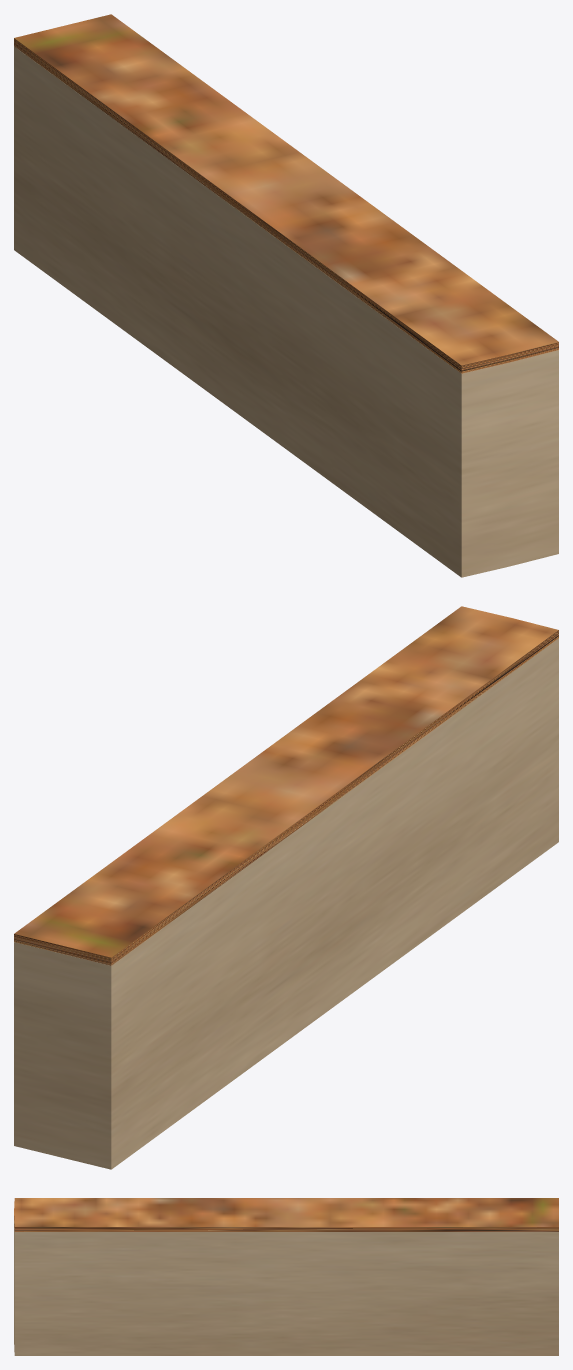
The model's file is Border_Quarter(2).fbx.
3 views of the same model, one above another, from view 1: azimuth 30°, elevation 25°; view 2: azimuth 150°, elevation 25°; view 3: azimuth 270°, elevation 25° (orthographic). The views are drawn at different scales.
Visible parts, largest first — view 1: Border_Quarter, Border_Quarter_TOP; view 2: Border_Quarter, Border_Quarter_TOP; view 3: Border_Quarter, Border_Quarter_TOP.
Part boxes in pixels (box(x1,y1,x2,y2)): Border_Quarter: box(14, 46, 558, 577); Border_Quarter_TOP: box(14, 14, 558, 373); Border_Quarter: box(14, 638, 558, 1169); Border_Quarter_TOP: box(14, 606, 558, 965); Border_Quarter: box(14, 1221, 558, 1355); Border_Quarter_TOP: box(14, 1198, 558, 1231).
Size of the model in its own units: 1250 by 2601 by 9961.
2 materials, 2 textured.
